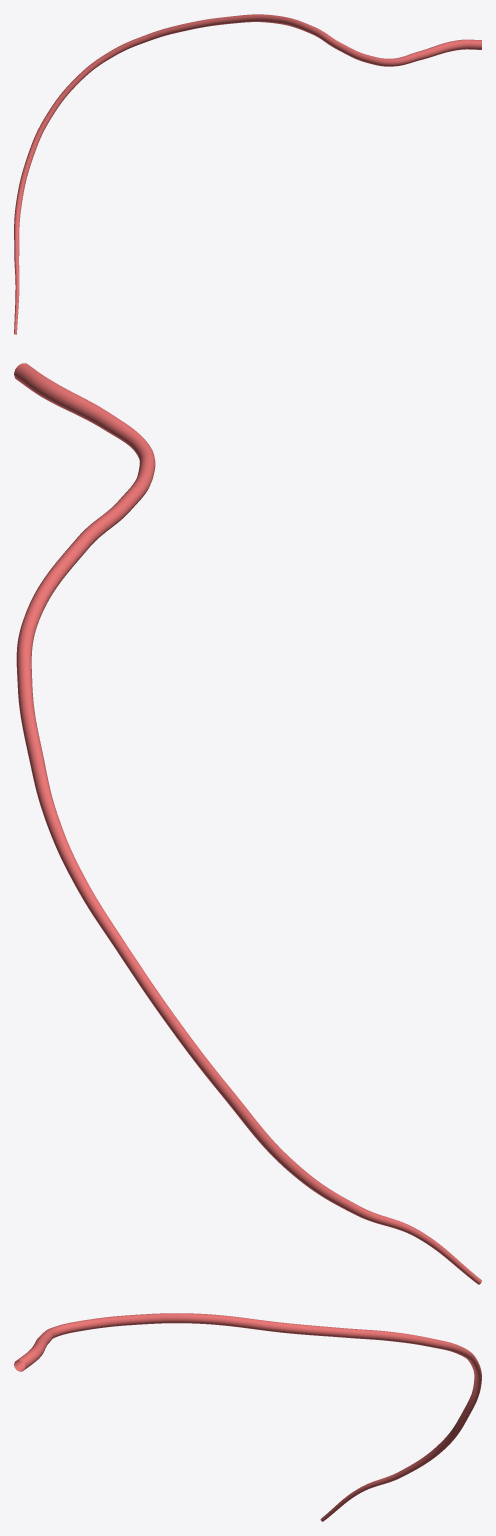
Rendered from Subcostal_artery.r_BezierCurve.253.glb.
3 renders of one model, top to bottom at view 1: azimuth 30°, elevation 25°; view 2: azimuth 150°, elevation 25°; view 3: azimuth 270°, elevation 25°, orthographic. The views are drawn at different scales.
Parts seen in each view (by area): view 1: Subcostal_artery.r_BezierCurve.253; view 2: Subcostal_artery.r_BezierCurve.253; view 3: Subcostal_artery.r_BezierCurve.253.
Boxes of the visible parts, x1,y1,x2,y2 form: Subcostal_artery.r_BezierCurve.253: [14, 14, 481, 334]; Subcostal_artery.r_BezierCurve.253: [14, 363, 481, 1284]; Subcostal_artery.r_BezierCurve.253: [14, 1313, 481, 1521].
Bounding box in the file's own units: 0.0819 × 0.0657 × 0.0731.
